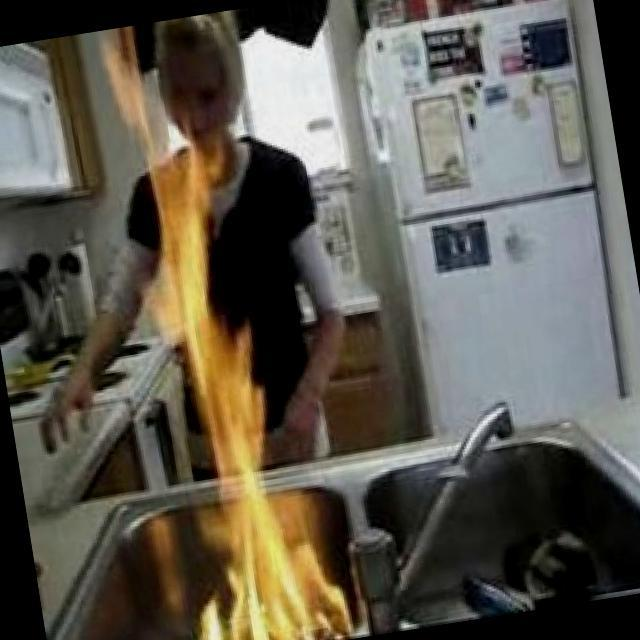Fire: (123, 127, 358, 640)
